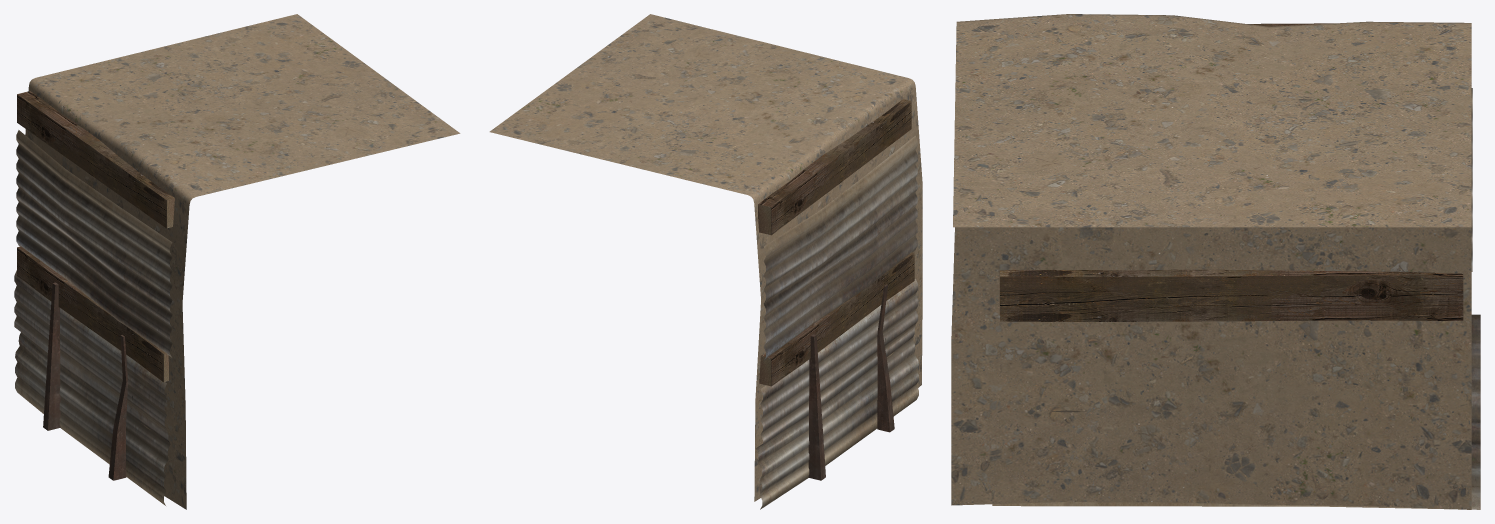
The model's file is section_3.fbx.
3 views of the same model, side by side, from view 1: azimuth 30°, elevation 25°; view 2: azimuth 150°, elevation 25°; view 3: azimuth 270°, elevation 25° (orthographic). The views are drawn at different scales.
Parts seen in each view (by area): view 1: Box093, Object012, Plane010, Box105, Box102, Box020, Box106; view 2: Box093, Object012, Plane010, Box105, Box102, Box020, Box106; view 3: Box093, Box102, Plane010.
Boxes of the visible parts, bbox=[...] form: Box093: bbox=[25, 14, 460, 509]; Object012: bbox=[16, 130, 172, 357]; Plane010: bbox=[14, 270, 170, 505]; Box105: bbox=[17, 91, 174, 228]; Box102: bbox=[17, 246, 168, 382]; Box020: bbox=[43, 282, 60, 430]; Box106: bbox=[108, 335, 127, 480]; Box093: bbox=[489, 14, 922, 501]; Object012: bbox=[763, 135, 917, 360]; Plane010: bbox=[756, 279, 918, 509]; Box105: bbox=[758, 99, 911, 235]; Box102: bbox=[759, 252, 914, 386]; Box020: bbox=[808, 334, 825, 480]; Box106: bbox=[877, 284, 894, 432]; Box093: bbox=[951, 14, 1471, 509]; Box102: bbox=[999, 269, 1463, 321]; Plane010: bbox=[992, 314, 1480, 509].
Bounding box in the file's own units: 368 × 376 × 358.
